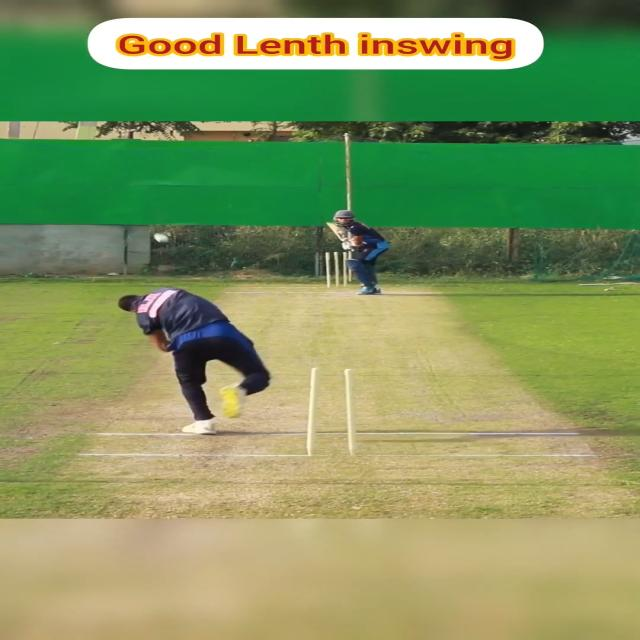ball: (152, 233, 170, 244)
stump: (304, 367, 356, 456), (324, 251, 349, 288)
